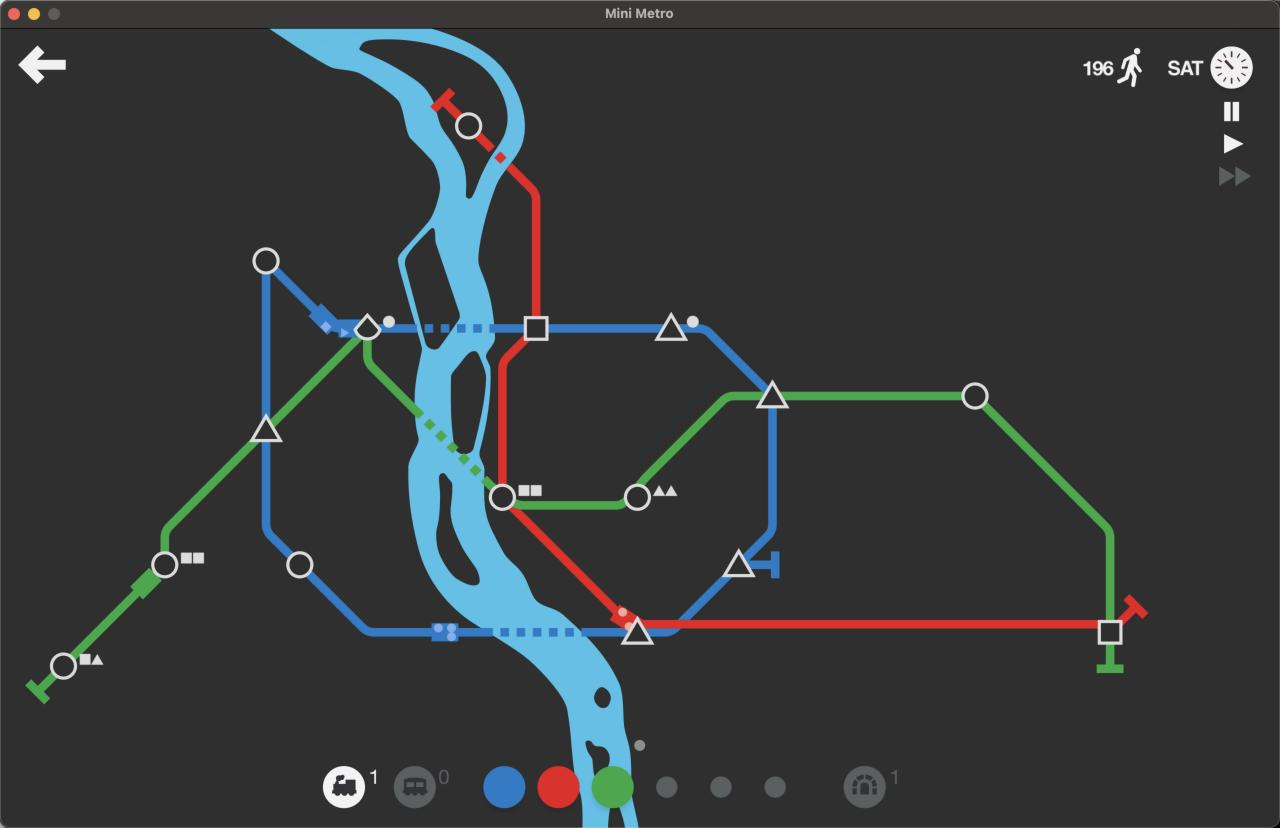CIRCLE: (487, 482, 516, 512), (150, 550, 179, 579), (623, 483, 652, 512), (252, 246, 280, 275), (50, 651, 78, 680), (961, 382, 989, 410), (455, 111, 482, 139), (286, 551, 313, 579)
SQUARE: (1097, 619, 1123, 646), (523, 315, 549, 342)
TRIANGLE: (754, 378, 790, 409), (654, 311, 688, 343), (620, 615, 655, 646), (723, 547, 756, 579), (250, 413, 283, 443)
WEDGE: (353, 312, 382, 341)
